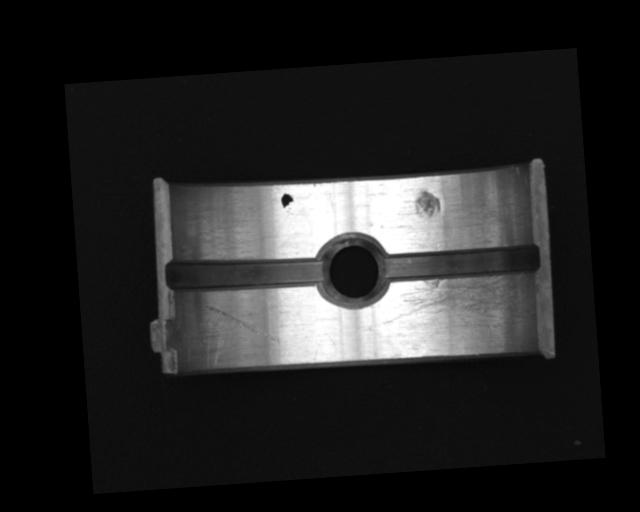blot: (280, 191, 294, 212)
bruise: (411, 189, 441, 219)
gap: (162, 248, 324, 296), (379, 241, 542, 286)
hole: (315, 229, 392, 310)
nick: (204, 298, 281, 349)
scratch: (378, 272, 532, 344)
